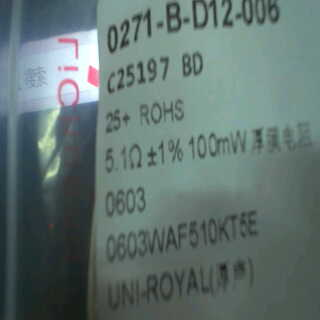5.1R: (101, 140, 143, 177)
